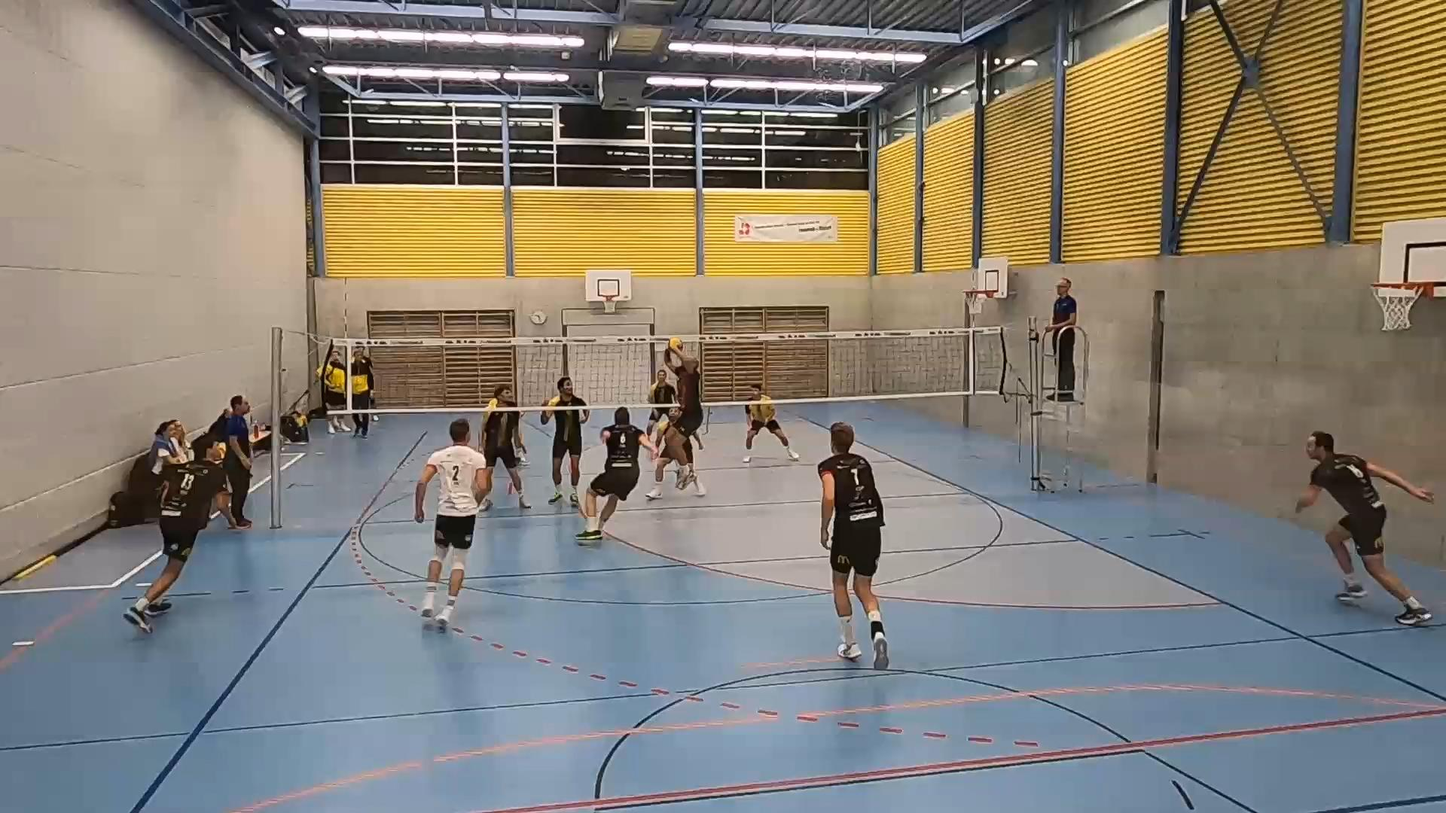alzata: (656, 348, 710, 493)
